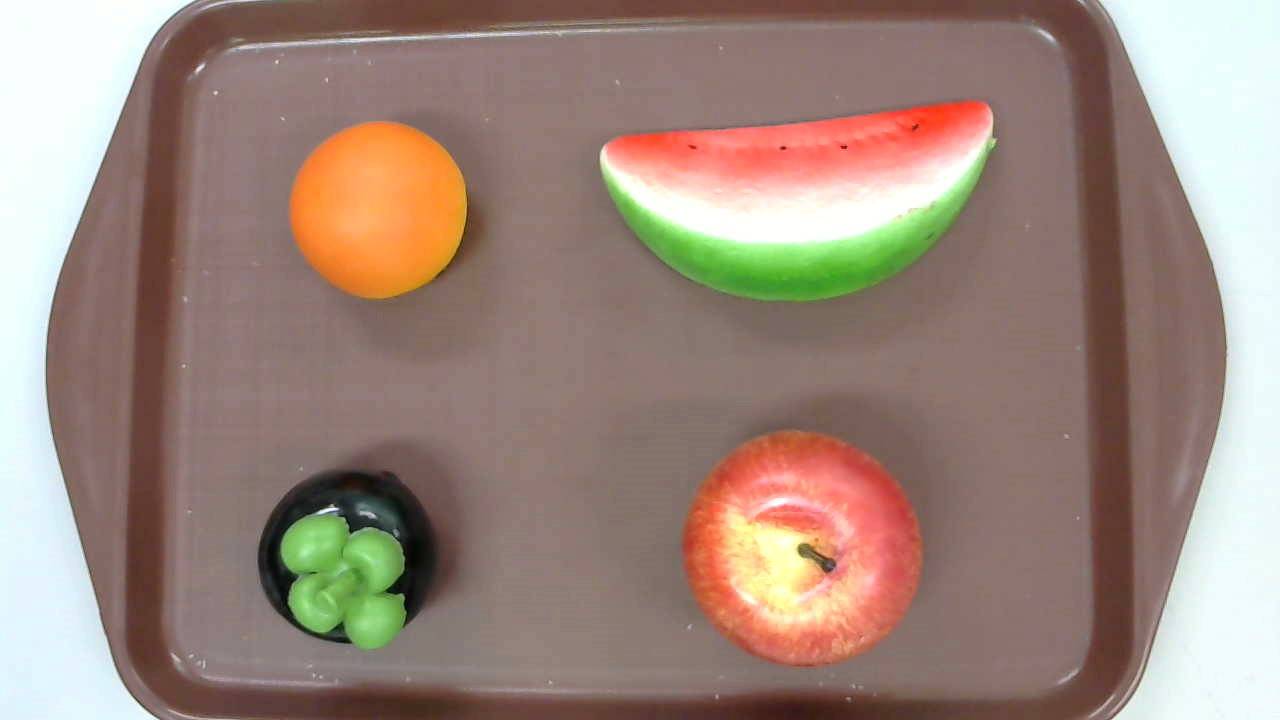bun: (289, 120, 466, 300)
mangosteen: (257, 466, 440, 650)
red apple: (681, 428, 922, 669)
water melon: (599, 100, 997, 303)
